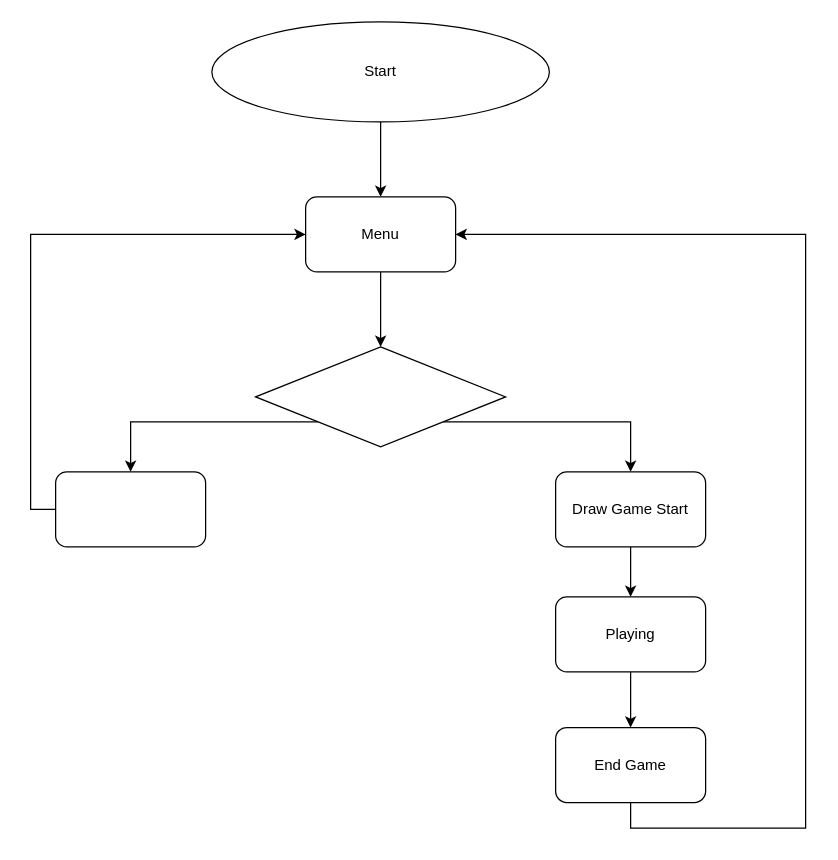
Image size: 838x860. Some labels were removed from this diagram. Here are the shapes that lost their labels. From the top down, the box of each, then its label:
(254, 346, 506, 447): Chose Help / Game
(54, 471, 206, 547): Show Controls
